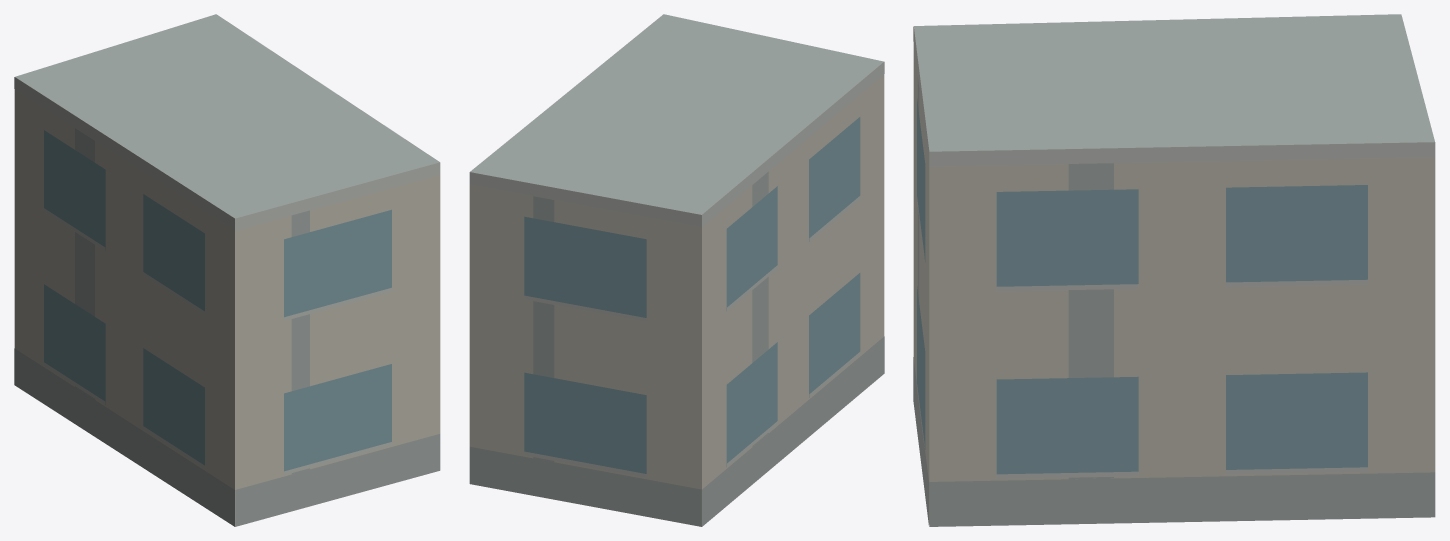
The model's file is survey-upis-32726893.glb.
3 views of the same model, side by side, from view 1: azimuth 30°, elevation 25°; view 2: azimuth 150°, elevation 25°; view 3: azimuth 270°, elevation 25° (orthographic). The views are drawn at different scales.
Visible parts, largest first — view 1: survey-upis-32726893.tmp; view 2: survey-upis-32726893.tmp; view 3: survey-upis-32726893.tmp.
Part boxes in pixels (<box>): survey-upis-32726893.tmp: <box>14,14,440,526</box>; survey-upis-32726893.tmp: <box>469,14,884,526</box>; survey-upis-32726893.tmp: <box>913,14,1435,526</box>.
Bounding box in the file's own units: 4.81 × 6.1 × 7.7.
